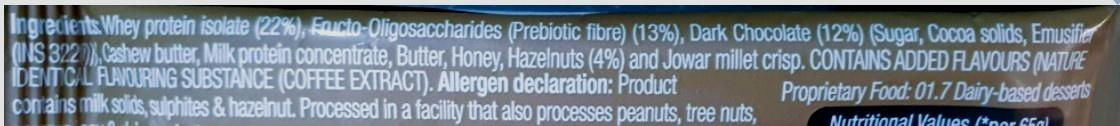ingredients: (4, 5, 1110, 126)
